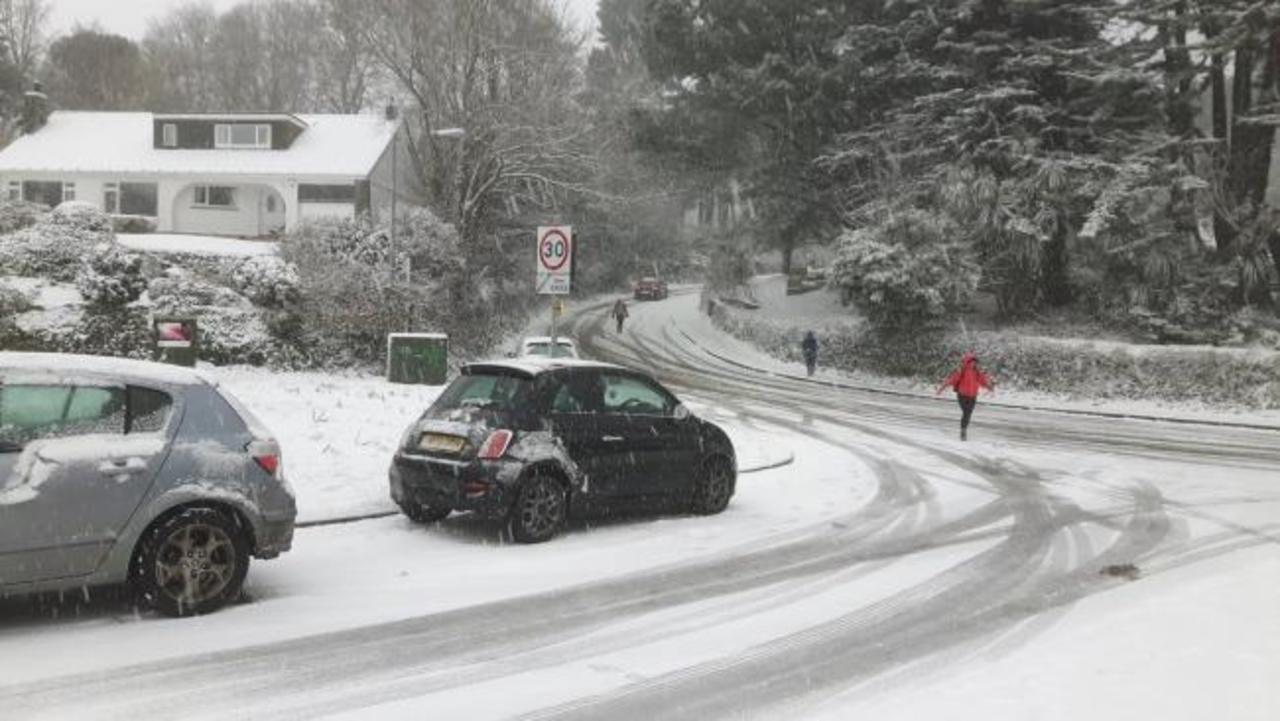car: (3, 349, 296, 621), (382, 356, 741, 546), (633, 275, 668, 298)
person: (941, 346, 993, 439), (800, 327, 818, 379), (610, 296, 630, 330)
